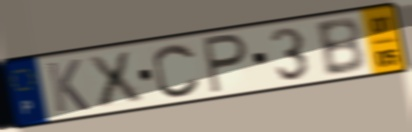3: (269, 25, 313, 82)
B: (312, 15, 368, 79)
C: (151, 41, 203, 99)
K: (45, 57, 92, 115)
P: (201, 31, 251, 96)
X: (84, 49, 147, 110)
